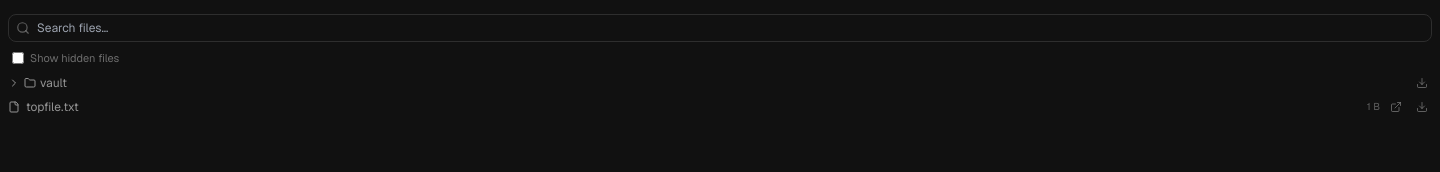
Test: SidebarWorkspaceTree subtree match + auto-fetch › auto-fetches a collapsed root dir on first filter and keeps the ancestor visible
Expected: the text "topfile.txt" is shown, [26,98,79,114]
Type "needle" into the search field named "search workspace". click: [720, 28]
box: [8,14,1432,42]
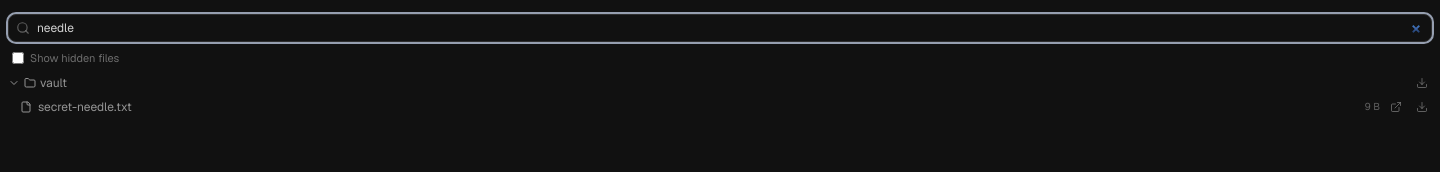
Expected: the text "vault" is shown, [40,74,67,90]
Result: the text "secret-needle.txt" is shown at [38,98,132,114]
Result: the text "topfile.txt" is gone
Clear the search field named "search workspace". click: [720, 28]
box: [8,14,1432,42]
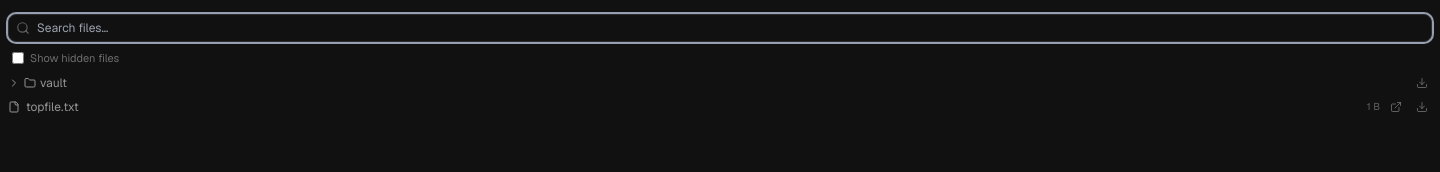
Result: the text "topfile.txt" is shown at [26,98,79,114]
Result: the text "secret-needle.txt" is gone
